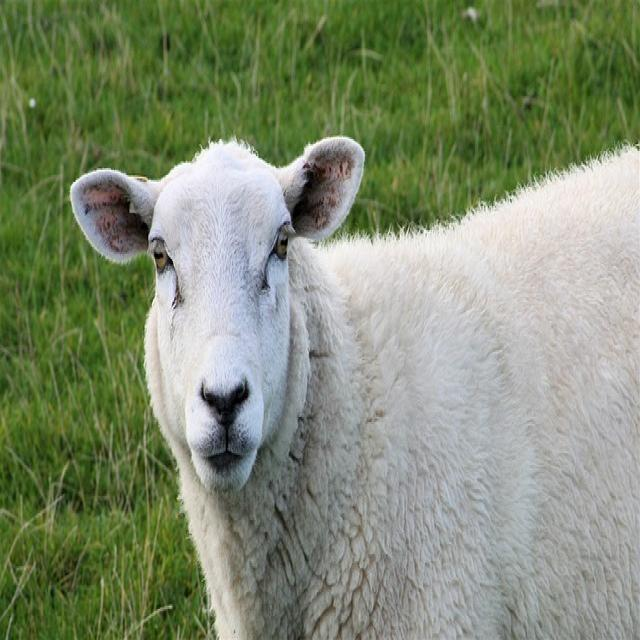goat: (68, 136, 640, 640)
